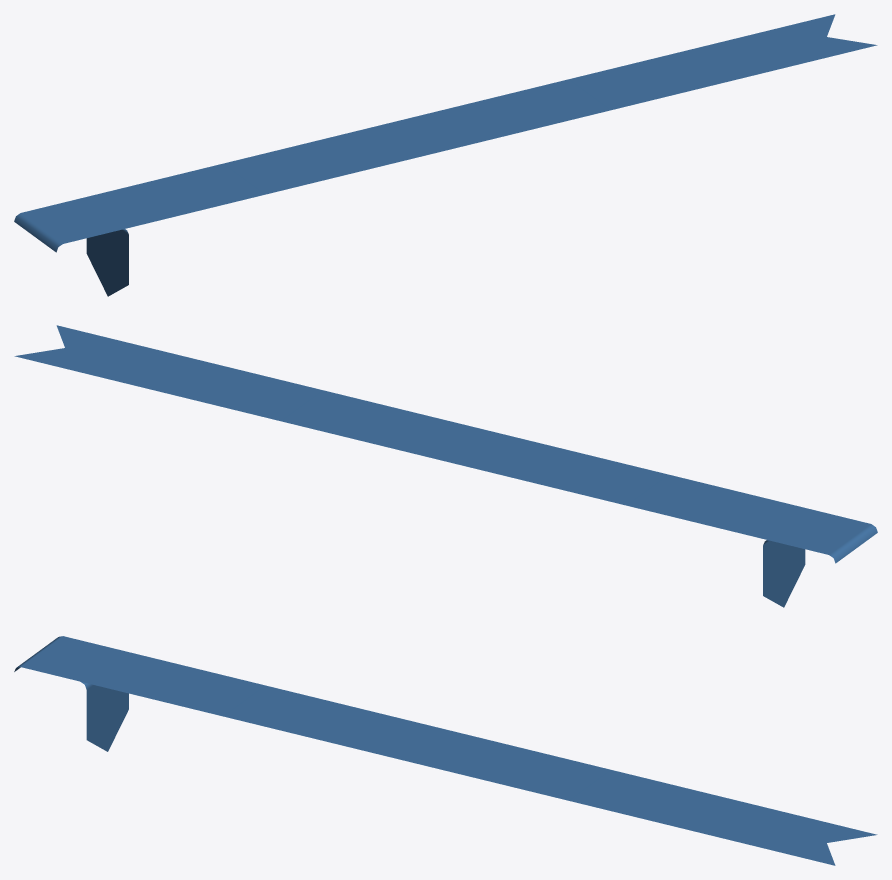
The model's file is hub_chucoheur_access_q04_carpet_01.fbx.
3 views of the same model, one above another, from view 1: azimuth 30°, elevation 25°; view 2: azimuth 150°, elevation 25°; view 3: azimuth 330°, elevation 25° (orthographic).
Parts seen in each view (by area): view 1: access_q04_carpet_01b, access_q04_carpet_01a; view 2: access_q04_carpet_01b, access_q04_carpet_01a; view 3: access_q04_carpet_01b, access_q04_carpet_01a.
Boxes of the visible parts, x1,y1,x2,y2 form: access_q04_carpet_01b: (50,14,877,236); access_q04_carpet_01a: (14,198,128,296); access_q04_carpet_01b: (14,325,841,547); access_q04_carpet_01a: (763,509,877,607); access_q04_carpet_01b: (50,643,877,865); access_q04_carpet_01a: (14,636,128,751).
Bounding box in the file's own units: 612 × 60.09 × 54.71.
1 material, 1 textured.
